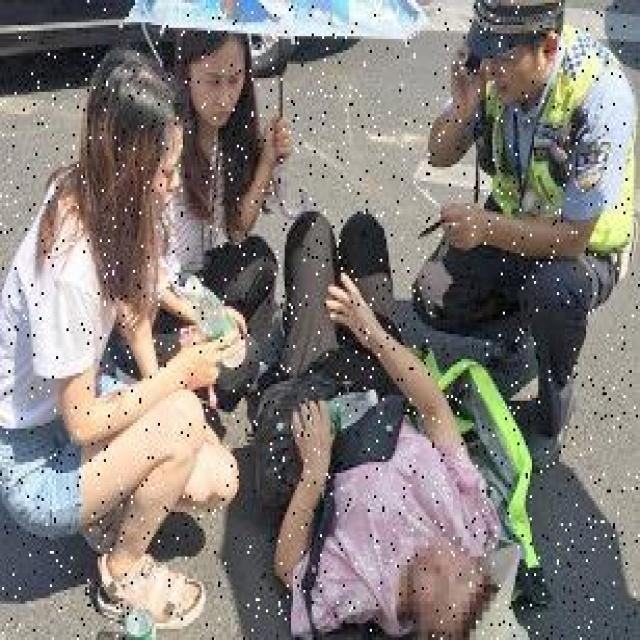fall: (272, 214, 499, 637)
